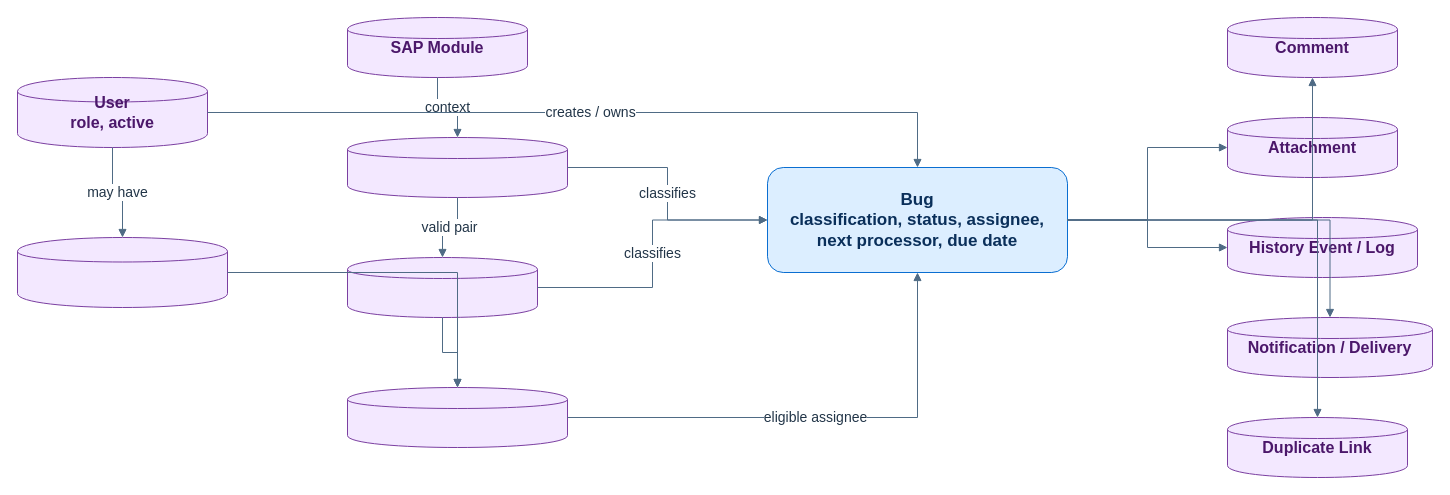
This 1450x495 diagram has some shape labels left out. Each missing label, with the centre of its shape:
Application Component: the point at 457,167
Defect Category: the point at 442,287
Developer Profile availability, workload: the point at 122,272
Developer Responsibility: the point at 457,417
